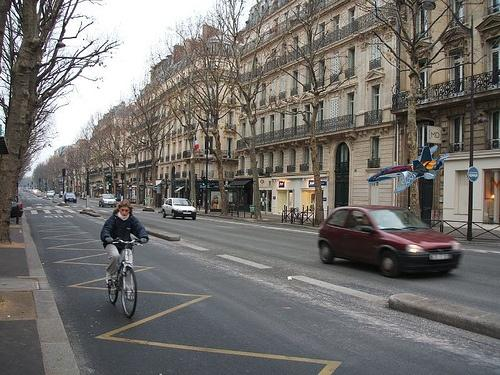tampered: (369, 146, 449, 193)
